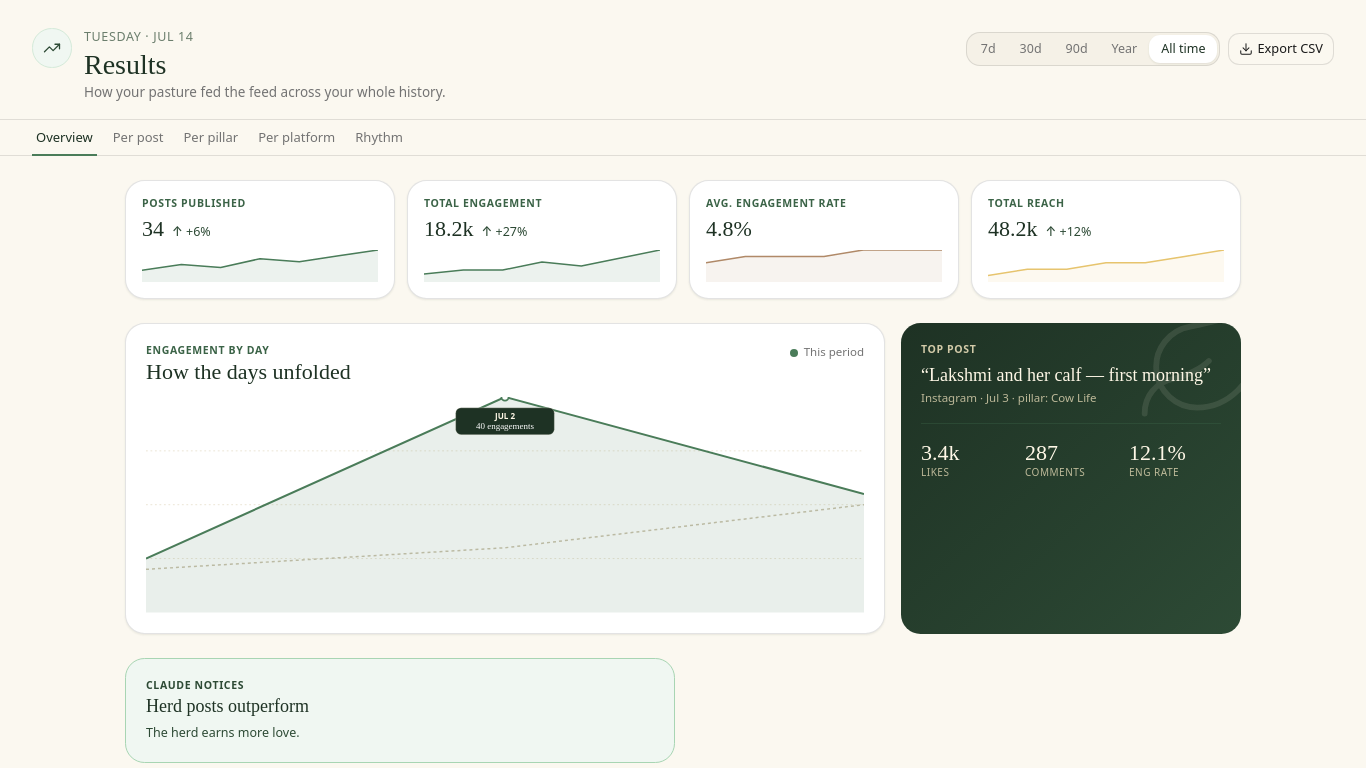
Test: AnalyticsPage › renders the posts table with trend cells and honest rate placeholders
What coordinates should you click on to do the following:
click the tab "Per post"
I would click on:
 (138, 138)
Its box is top-left (109, 120), bottom-right (167, 156).
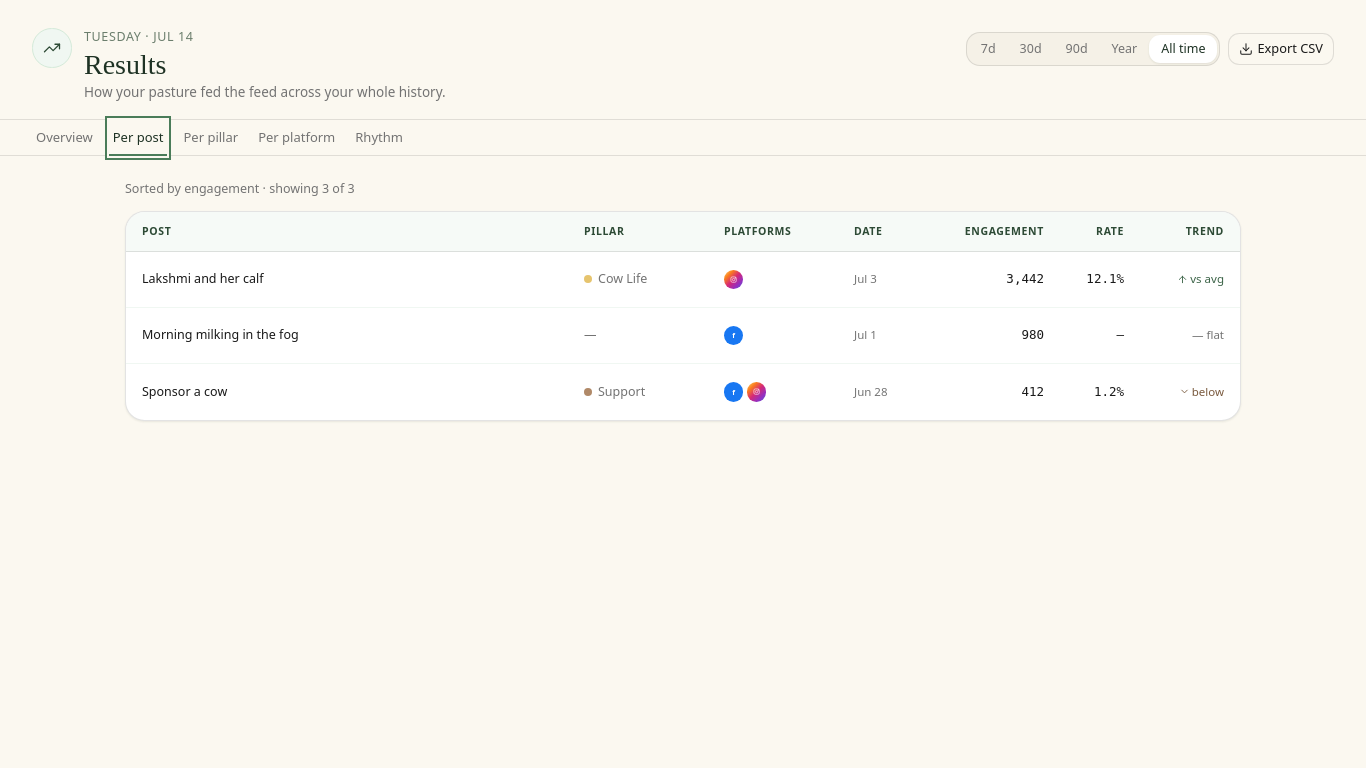
Now the text "Sorted by engagement · showing 3 of 3" is shown, box top-left (125, 180), bottom-right (355, 197)
Now the text "vs avg" is shown, box top-left (1177, 271), bottom-right (1224, 288)
Now the text "below" is shown, box top-left (1179, 384), bottom-right (1224, 400)
